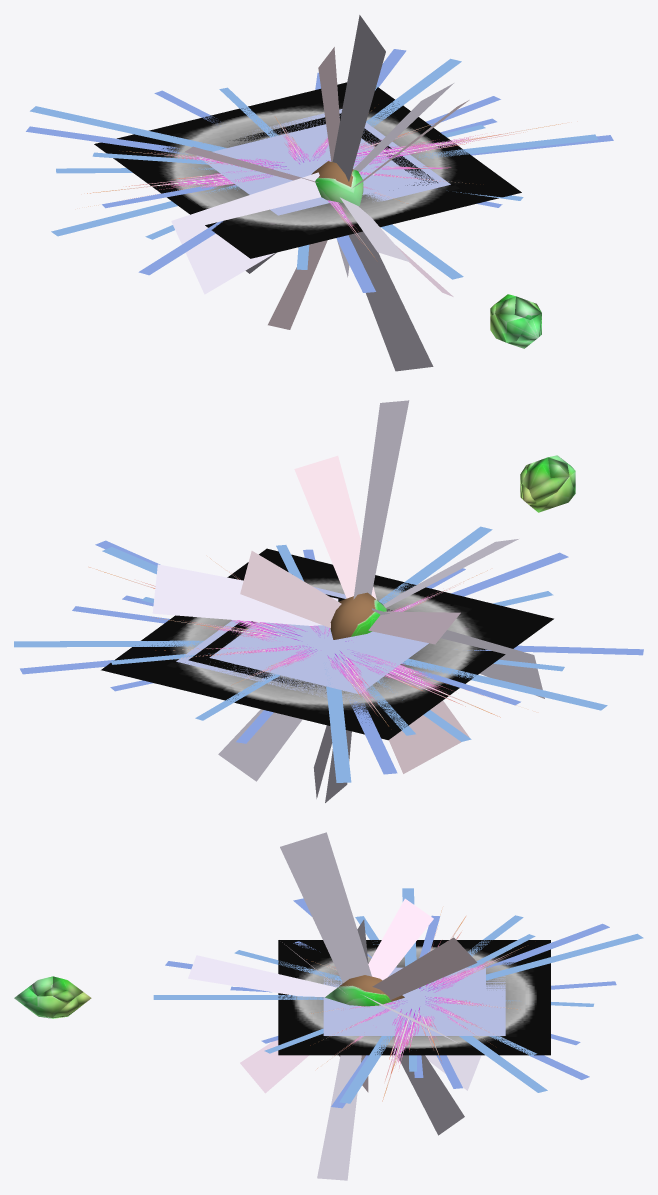
3 renders of one model, top to bottom at view 1: azimuth 30°, elevation 25°; view 2: azimuth 150°, elevation 25°; view 3: azimuth 270°, elevation 25°, orthographic. The views are drawn at different scales.
Parts seen in each view (by area): view 1: "Editable Poly@#6", Plane10, "Editable Poly@#2", "Editable Poly@#4", "Editable Poly@#3", Plane07, "Editable Poly", M648, "Editable Poly@#7", "Editable Poly@#1", "Editable Poly@#8", "Editable Poly@#5" (+1 smaller); view 2: "Editable Poly@#6", Plane10, Plane07, "Editable Poly@#2", "Editable Poly@#4", "Editable Poly@#3", M648, "Editable Poly", Plane05, "Editable Poly@#1", "Editable Poly@#8", "Editable Poly@#7" (+1 smaller); view 3: Plane10, "Editable Poly@#6", "Editable Poly@#2", "Editable Poly@#4", Plane05, "Editable Poly@#7", "Editable Poly@#3", Plane07, M648, "Editable Poly", "Editable Poly@#8", "Editable Poly@#1".
Part boxes in pixels (box(x1,y1,x2,y2)): "Editable Poly@#6": box(94, 82, 521, 258); Plane10: box(171, 15, 453, 371); "Editable Poly@#2": box(30, 58, 598, 279); "Editable Poly@#4": box(196, 124, 418, 215); "Editable Poly@#3": box(26, 49, 613, 292); Plane07: box(268, 47, 469, 329); "Editable Poly": box(88, 123, 562, 257); M648: box(490, 294, 541, 348); "Editable Poly@#7": box(252, 109, 450, 201); "Editable Poly@#1": box(87, 110, 450, 201); "Editable Poly@#8": box(311, 161, 363, 205); "Editable Poly@#5": box(233, 113, 437, 185); "Editable Poly@#6": box(101, 548, 553, 740); Plane10: box(152, 400, 544, 802); Plane07: box(240, 455, 469, 773); "Editable Poly@#2": box(14, 526, 607, 782); "Editable Poly@#4": box(209, 622, 428, 694); "Editable Poly@#3": box(20, 540, 643, 774); M648: box(520, 455, 575, 512); "Editable Poly": box(89, 567, 516, 726); Plane05: box(368, 611, 460, 644); "Editable Poly@#1": box(155, 558, 500, 717); "Editable Poly@#8": box(330, 592, 386, 639); "Editable Poly@#7": box(176, 586, 377, 706); Plane10: box(188, 832, 481, 1180); "Editable Poly@#6": box(278, 940, 550, 1055); "Editable Poly@#2": box(153, 888, 643, 1103); "Editable Poly@#4": box(343, 967, 485, 1027); Plane05: box(240, 898, 433, 1093); "Editable Poly@#7": box(323, 973, 505, 1035); "Editable Poly@#3": box(165, 898, 616, 1108); Plane07: box(282, 937, 477, 1092); M648: box(14, 976, 91, 1018); "Editable Poly": box(310, 910, 525, 1101); "Editable Poly@#8": box(325, 975, 404, 1006); "Editable Poly@#1": box(306, 916, 517, 1068).
Bounding box in the file's own units: 14.88 × 9.29 × 16.16.
